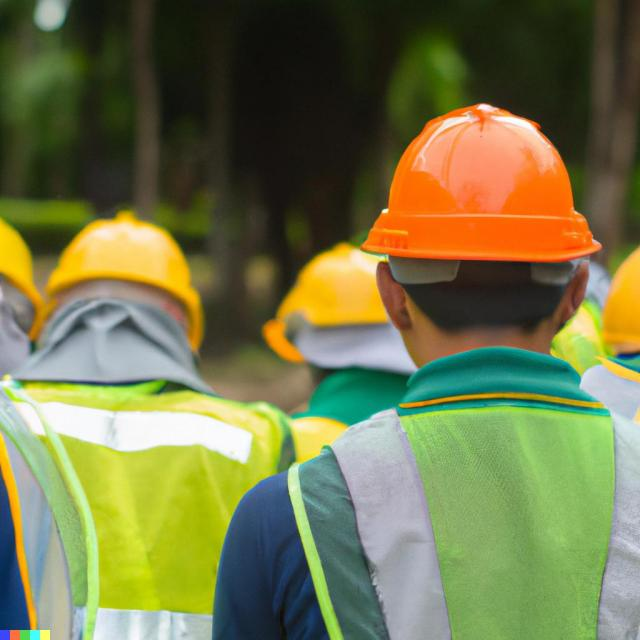Reflective-Jacket: (272, 377, 640, 637), (2, 378, 287, 630)
Safety-Helmet: (364, 104, 598, 267), (42, 210, 207, 328), (0, 190, 42, 311)
